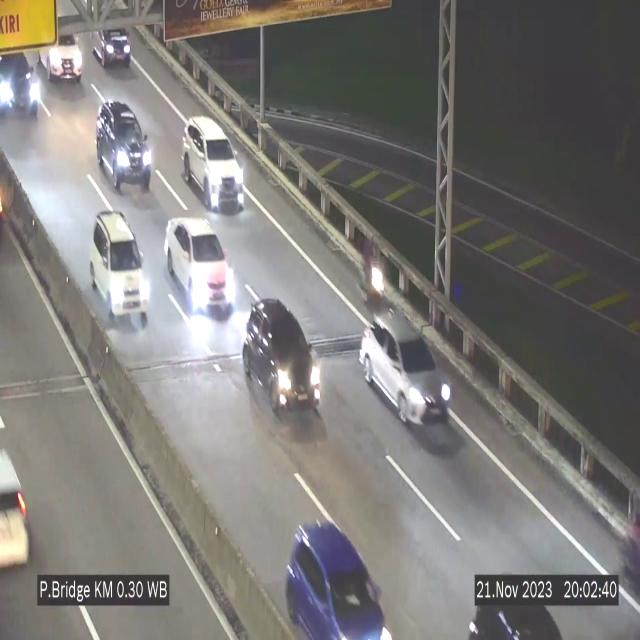Car: (280, 501, 397, 640), (360, 304, 454, 425), (452, 542, 565, 640), (240, 295, 323, 420), (164, 218, 230, 312), (90, 212, 145, 324), (182, 117, 244, 210), (96, 99, 152, 191), (0, 40, 49, 118), (37, 11, 85, 86), (89, 9, 139, 69)
Motorcycle: (363, 240, 387, 313)
